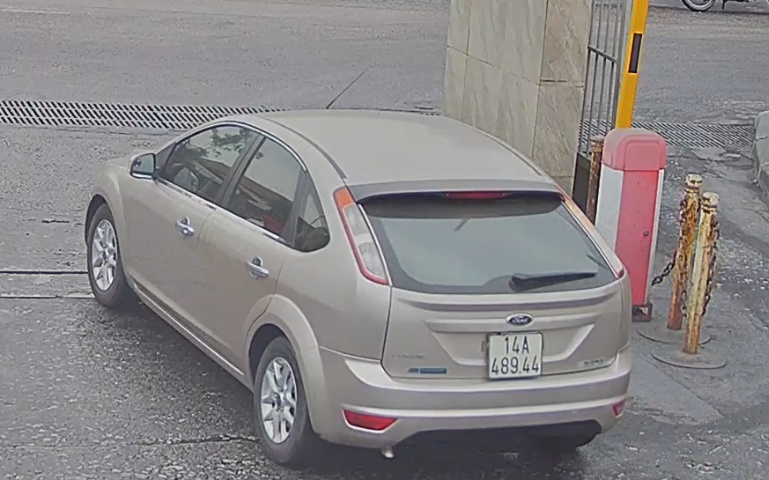vehicle plate: (478, 324, 552, 385)
